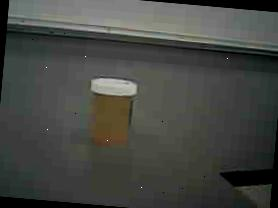Bottle B: (80, 66, 143, 156)
